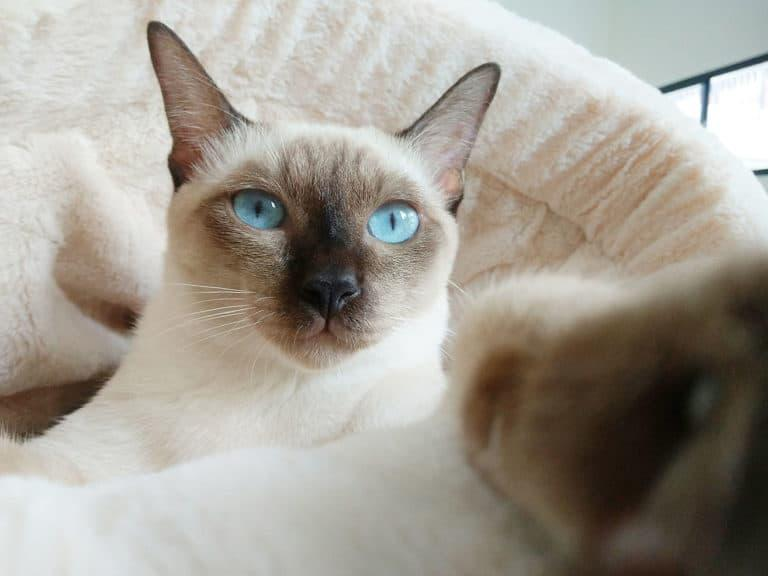siamese: (135, 13, 508, 382)
